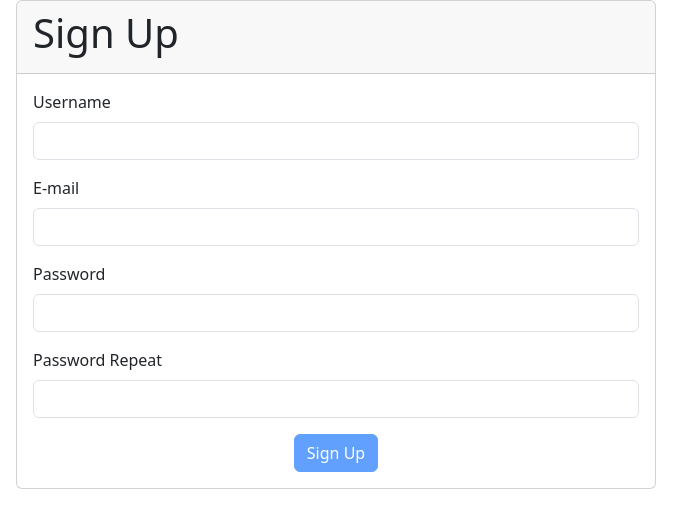
Test: Sign Up › When user sets same value for password inputs › Enables Button
In the password field labelled "Password": [336, 313] box [33, 294, 639, 332], type "P4ssword"
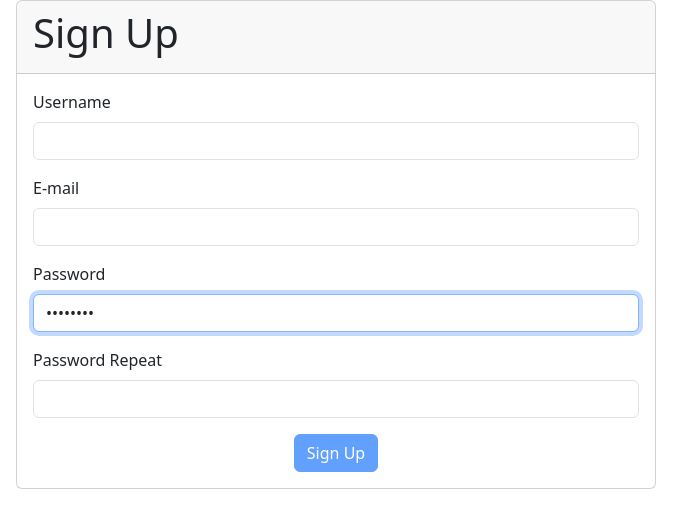
In the password field labelled "Password Repeat": [336, 399] box [33, 380, 639, 418], type "P4ssword"
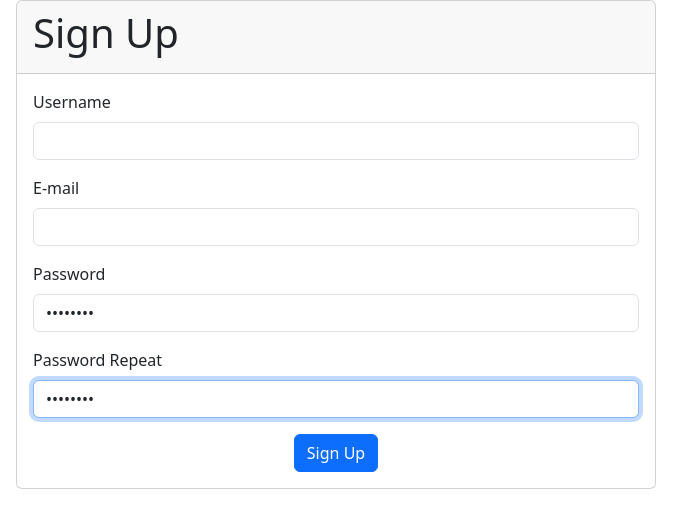
Expected: the button "Sign Up" is enabled, [294, 434, 378, 472]
